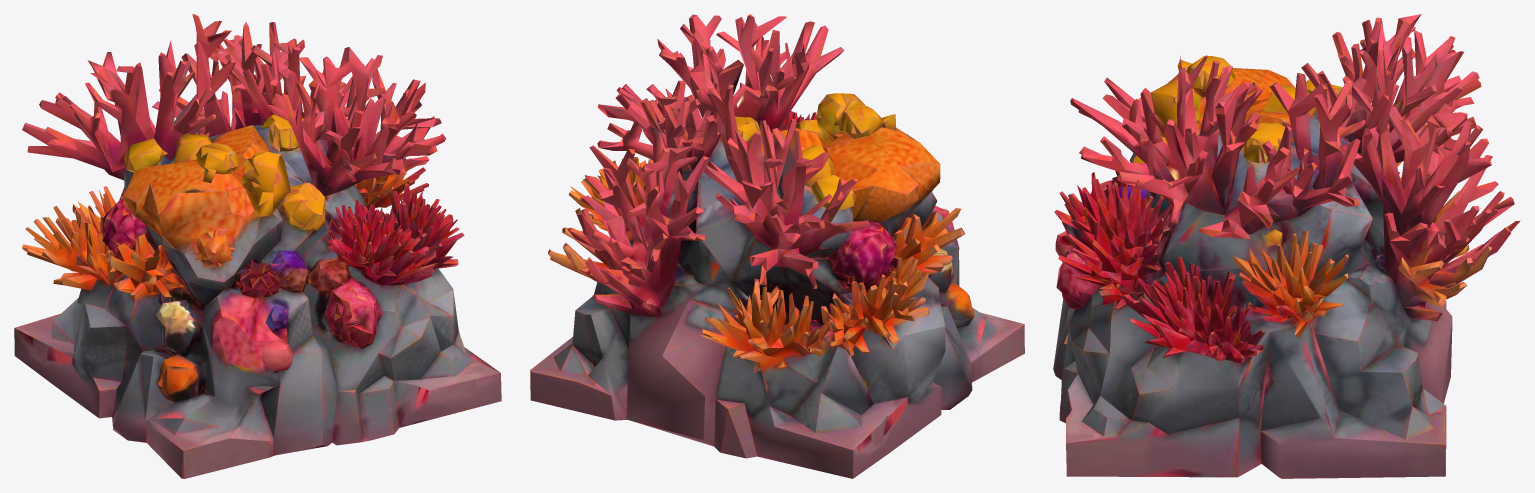
Rendered from coral3.glb.
3 views of the same model, side by side, from view 1: azimuth 30°, elevation 25°; view 2: azimuth 150°, elevation 25°; view 3: azimuth 270°, elevation 25° (orthographic). The views are drawn at different scales.
Size of the model in its own units: 1.89 by 1.64 by 1.87.
1 material, 1 textured.
